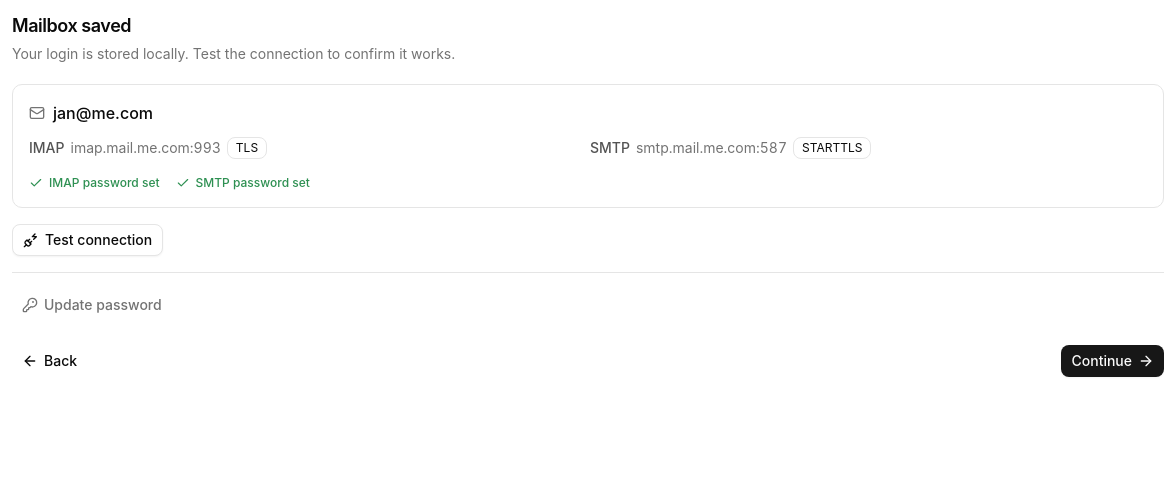
MailboxStep saved view — update password is write-only + presence ticks › shows presence ticks (never the secret) and rotates the password write-only
Expected: the text "IMAP password set" is shown, [29,175,160,191]
Expected: the text "SMTP password set" is shown, [176,175,310,191]
Click the button "Update password" at (92, 305), box [12,289,172,321]
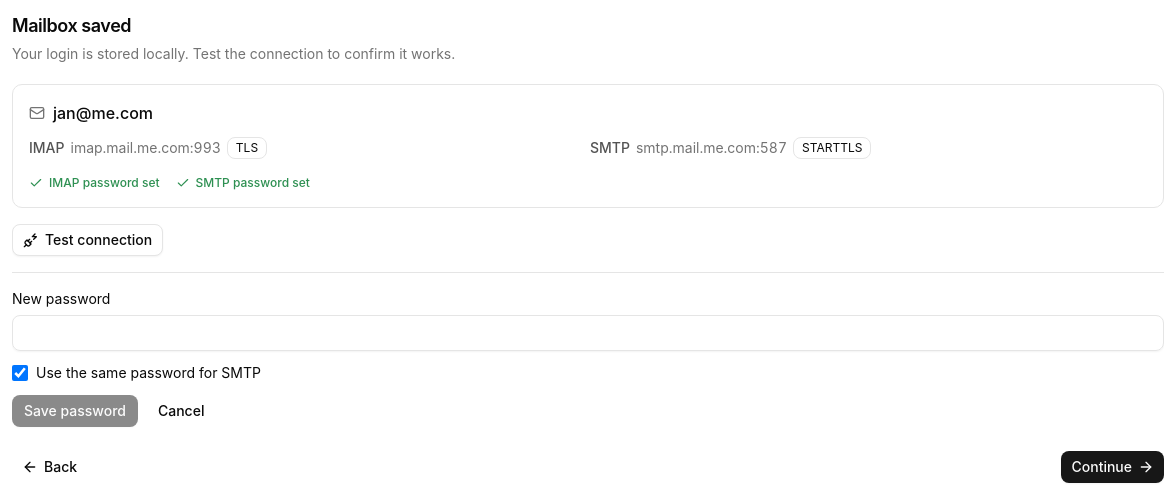
Type "rotated-pw-9a1c" into the password field labelled "New password" at (588, 333), box [12,315,1164,351]
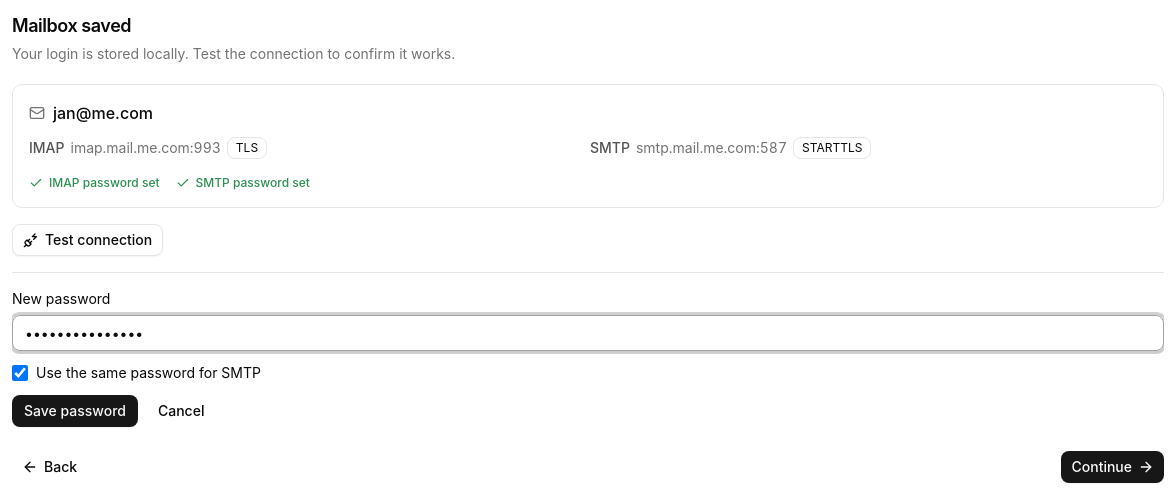
Click the button "Save password" at (75, 411), box [12,395,138,427]
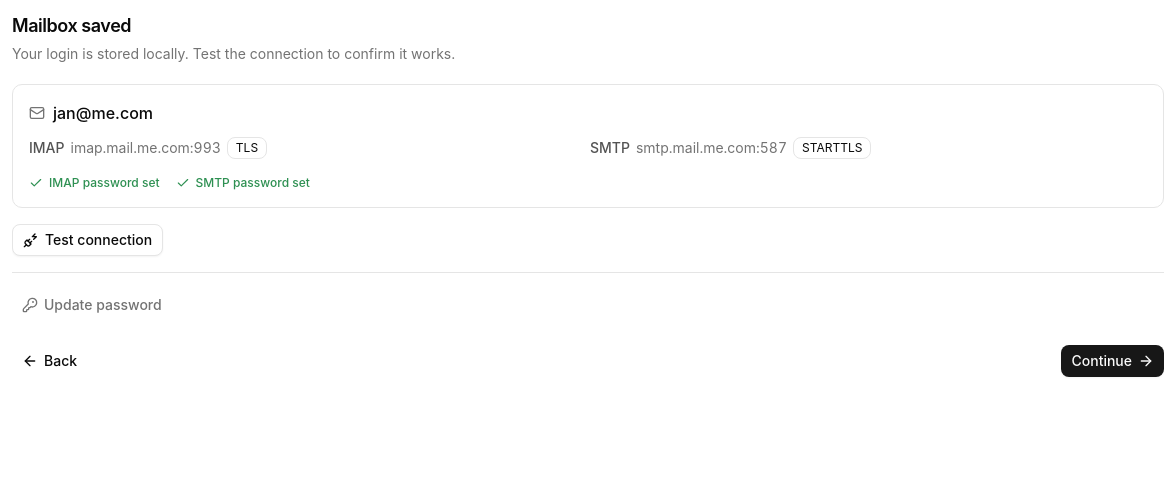
Expected: the text "IMAP password set" is shown, [29,175,160,191]
Expected: the button "Update password" is shown, [12,289,172,321]
